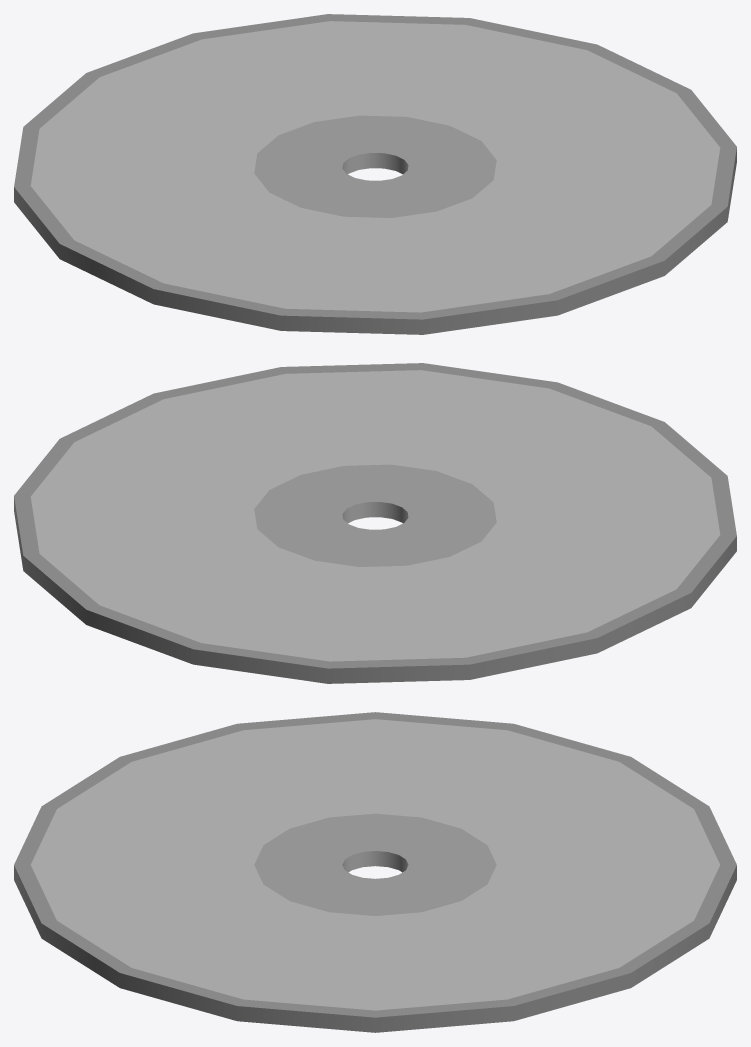
The picture shows the model from 3 angles, top to bottom: view 1: azimuth 30°, elevation 25°; view 2: azimuth 150°, elevation 25°; view 3: azimuth 270°, elevation 25°; orthographic projection.
Parts seen in each view (by area): view 1: Mesh_CD_01; view 2: Mesh_CD_01; view 3: Mesh_CD_01.
Part boxes in pixels (box(x1,y1,x2,y2)): Mesh_CD_01: box(14, 14, 736, 334); Mesh_CD_01: box(14, 363, 736, 683); Mesh_CD_01: box(14, 712, 736, 1032).
Bounding box in the file's own units: 0.1336 × 0.0031 × 0.1336.
1 material, 1 textured.
